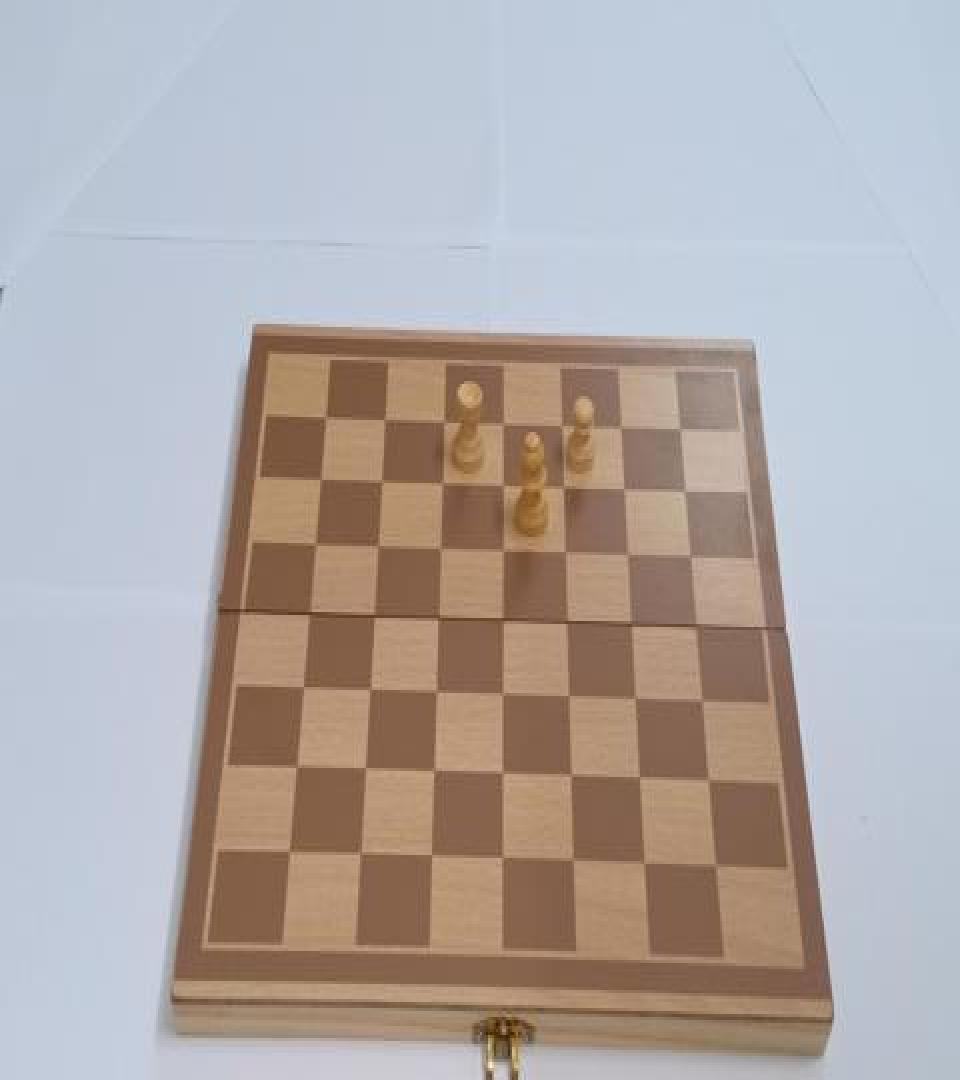xcorner: (318, 400, 336, 428), (437, 406, 455, 434), (428, 760, 446, 788), (677, 478, 695, 506), (302, 600, 320, 627), (296, 675, 314, 702), (289, 756, 307, 783), (282, 843, 300, 870), (378, 404, 396, 431), (374, 465, 392, 492), (371, 532, 389, 559), (367, 603, 385, 630), (363, 678, 381, 705), (359, 759, 377, 786), (354, 844, 372, 871), (435, 468, 453, 495), (434, 534, 452, 561), (432, 604, 450, 631), (496, 408, 514, 435), (496, 471, 514, 498), (496, 537, 514, 564), (497, 683, 515, 710), (498, 849, 516, 876), (554, 411, 572, 438), (557, 474, 575, 501), (559, 540, 577, 567), (561, 610, 579, 637), (567, 765, 585, 792), (569, 852, 587, 879), (613, 414, 631, 441), (625, 612, 643, 639), (630, 687, 648, 714), (635, 768, 653, 795), (671, 417, 689, 444), (683, 545, 701, 572), (689, 615, 707, 642), (696, 690, 714, 717), (711, 857, 729, 884), (313, 464, 331, 490), (308, 530, 326, 556), (430, 680, 448, 706), (426, 848, 444, 874), (497, 608, 515, 634), (498, 764, 516, 790), (564, 686, 582, 712), (617, 476, 635, 502), (621, 542, 639, 568), (641, 854, 659, 880), (704, 770, 722, 796)
